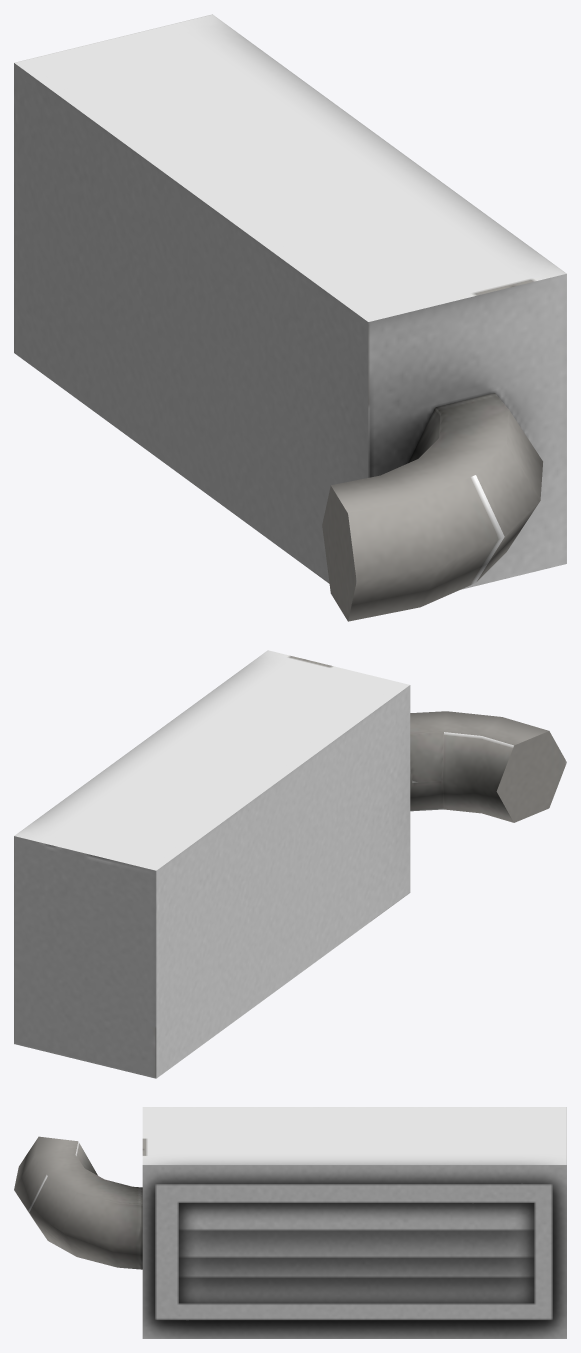
File: Prop_Airco.FBX
The picture shows the model from 3 angles, top to bottom: view 1: azimuth 30°, elevation 25°; view 2: azimuth 150°, elevation 25°; view 3: azimuth 270°, elevation 25°; orthographic projection. The views are drawn at different scales.
Visible parts, largest first — view 1: Box004; view 2: Box004; view 3: Box004.
Boxes of the visible parts, x1,y1,x2,y2 form: Box004: (14, 14, 566, 621); Box004: (14, 650, 566, 1078); Box004: (14, 1107, 566, 1338).
Size of the model in its own units: 71.1 by 62.82 by 181.
